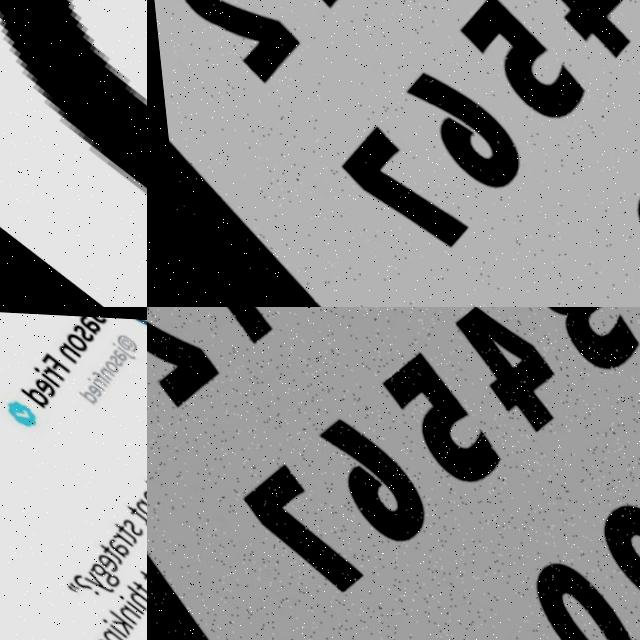0: (462, 513, 640, 640), (577, 145, 640, 307)
1: (147, 307, 320, 365)
2: (147, 0, 331, 106), (147, 307, 263, 439)
3: (451, 307, 640, 408)
4: (386, 307, 630, 472), (469, 0, 640, 88)
5: (319, 310, 551, 525), (410, 0, 622, 153)
6: (245, 364, 477, 579), (347, 25, 558, 217)
7: (178, 430, 404, 640), (290, 101, 495, 290)
8: (601, 392, 640, 568)
9: (539, 465, 640, 640)
A: (98, 533, 126, 558), (75, 313, 103, 333), (107, 343, 128, 360)
D: (17, 379, 49, 407), (74, 383, 97, 403)
E: (87, 547, 116, 573), (29, 373, 58, 399), (83, 379, 102, 396), (135, 483, 147, 507)
F: (39, 350, 70, 377), (88, 365, 109, 383)
G: (81, 555, 117, 587), (84, 631, 119, 640)
H: (114, 581, 145, 608)
I: (30, 363, 60, 387), (93, 614, 120, 637), (111, 591, 137, 612), (85, 374, 103, 389)
J: (110, 337, 134, 357), (78, 313, 108, 324)
K: (96, 607, 127, 634)
N: (54, 338, 81, 362), (110, 600, 135, 622), (92, 623, 119, 640), (128, 493, 147, 516), (96, 363, 113, 376)
O: (61, 327, 89, 352), (101, 355, 119, 372), (138, 558, 147, 583)
R: (40, 362, 63, 383), (106, 528, 129, 548), (90, 373, 105, 385)
S: (114, 512, 141, 536), (68, 318, 94, 341), (106, 350, 123, 365)
T: (91, 538, 119, 562), (106, 517, 133, 541), (120, 499, 147, 523), (123, 575, 147, 601), (130, 564, 147, 588), (138, 474, 147, 496)
Y: (75, 567, 110, 596)
